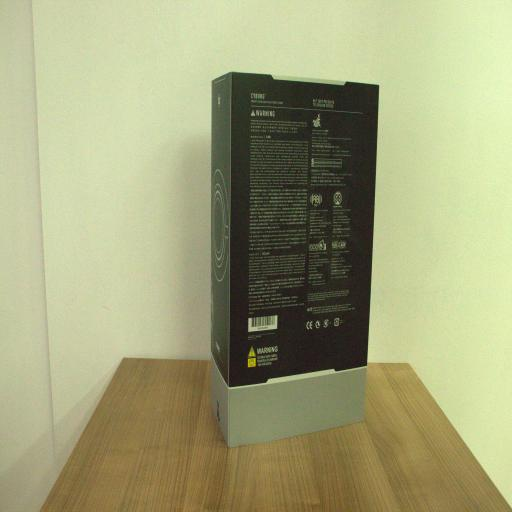Cyborg: (211, 71, 378, 446)
